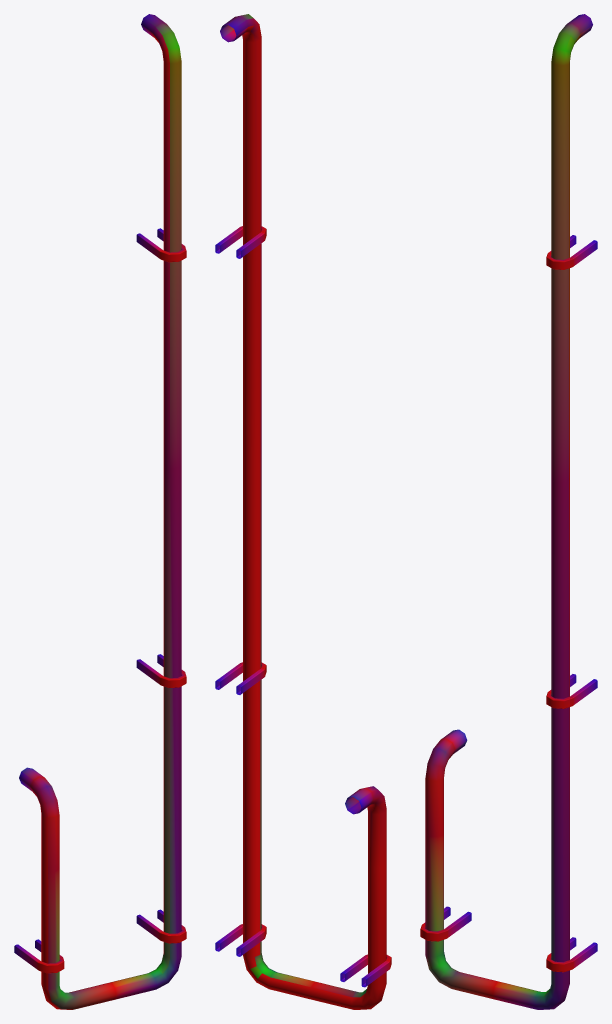
Rendered from AF_PipesA_C.fbx.
3 renders of one model, left to right at view 1: azimuth 30°, elevation 25°; view 2: azimuth 150°, elevation 25°; view 3: azimuth 330°, elevation 25°, orthographic. The views are drawn at different scales.
Visible parts, largest first — view 1: Plane.006; view 2: Plane.006; view 3: Plane.006.
Part boxes in pixels (left/top/right/bottom): Plane.006: left=14, top=14, right=186, bottom=1009; Plane.006: left=215, top=14, right=391, bottom=1009; Plane.006: left=420, top=14, right=597, bottom=1009.
Bounding box in the file's own units: 72.3 × 448 × 26.17.
